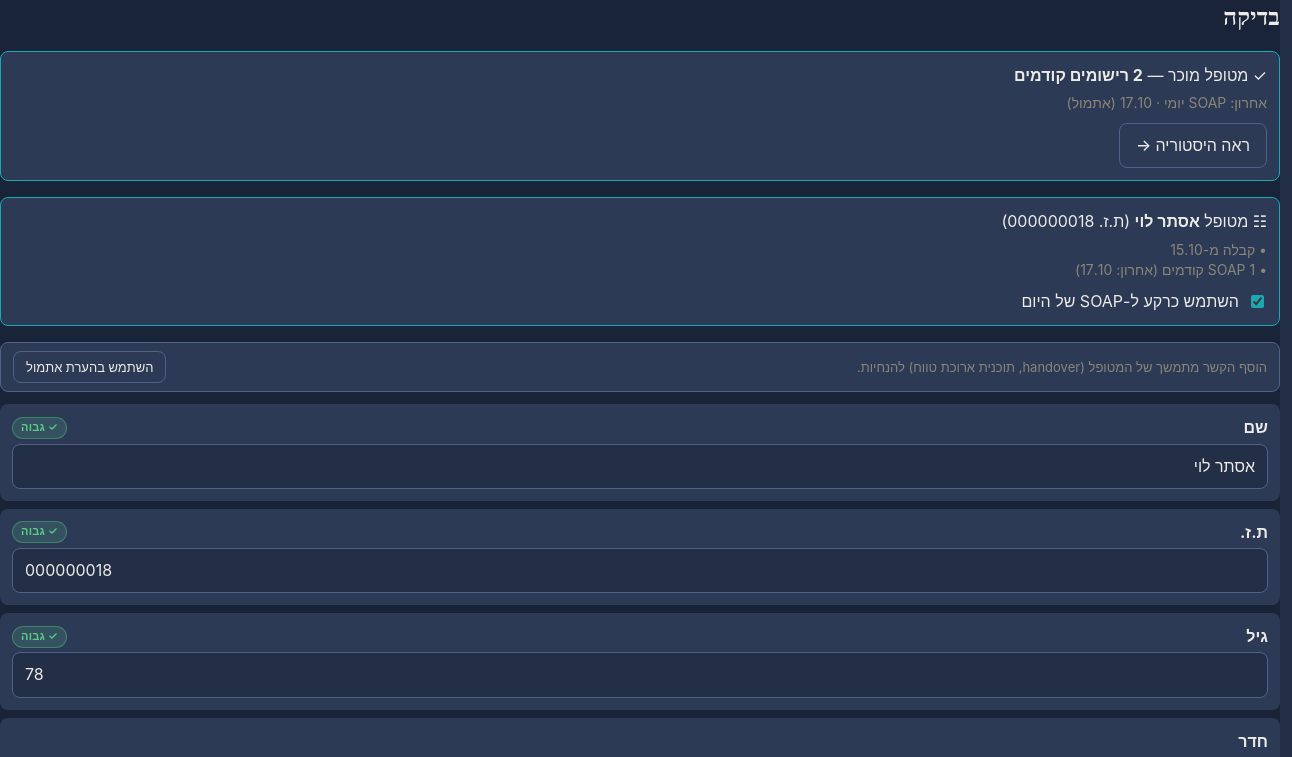
Test: Review — runtime "השתמש בהערת אתמול" toggle (v1.41.0) › toggles its label when clicked
This screenshot has width=1292, height=757.
Expected: the field showing "אסתר לוי" is shown, [12,444,1268,489]
Step 1. Click the button "השתמש בהערת אתמול" → (90, 367), box [13,351,166,383]
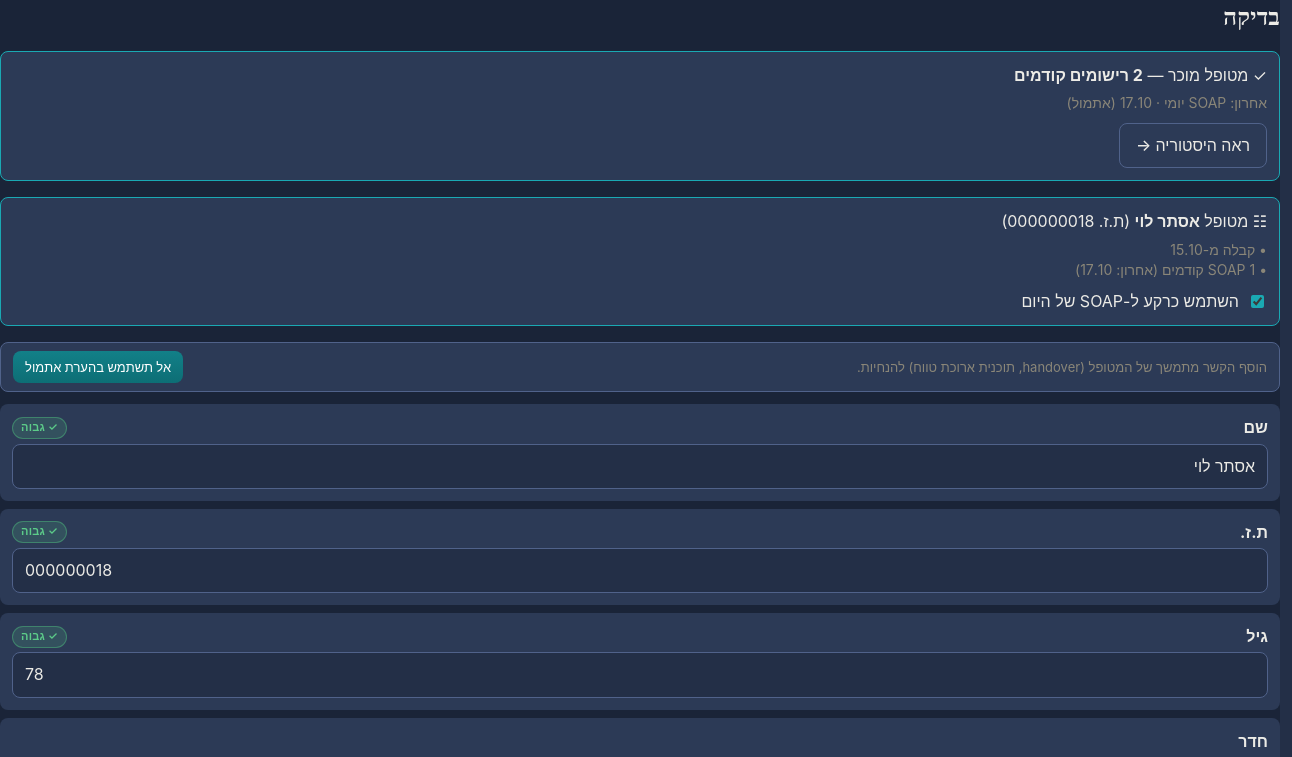
Now the button "אל תשתמש בהערת אתמול" is shown
Step 2. Click the button "אל תשתמש בהערת אתמול" → (98, 367), box [13,351,183,383]
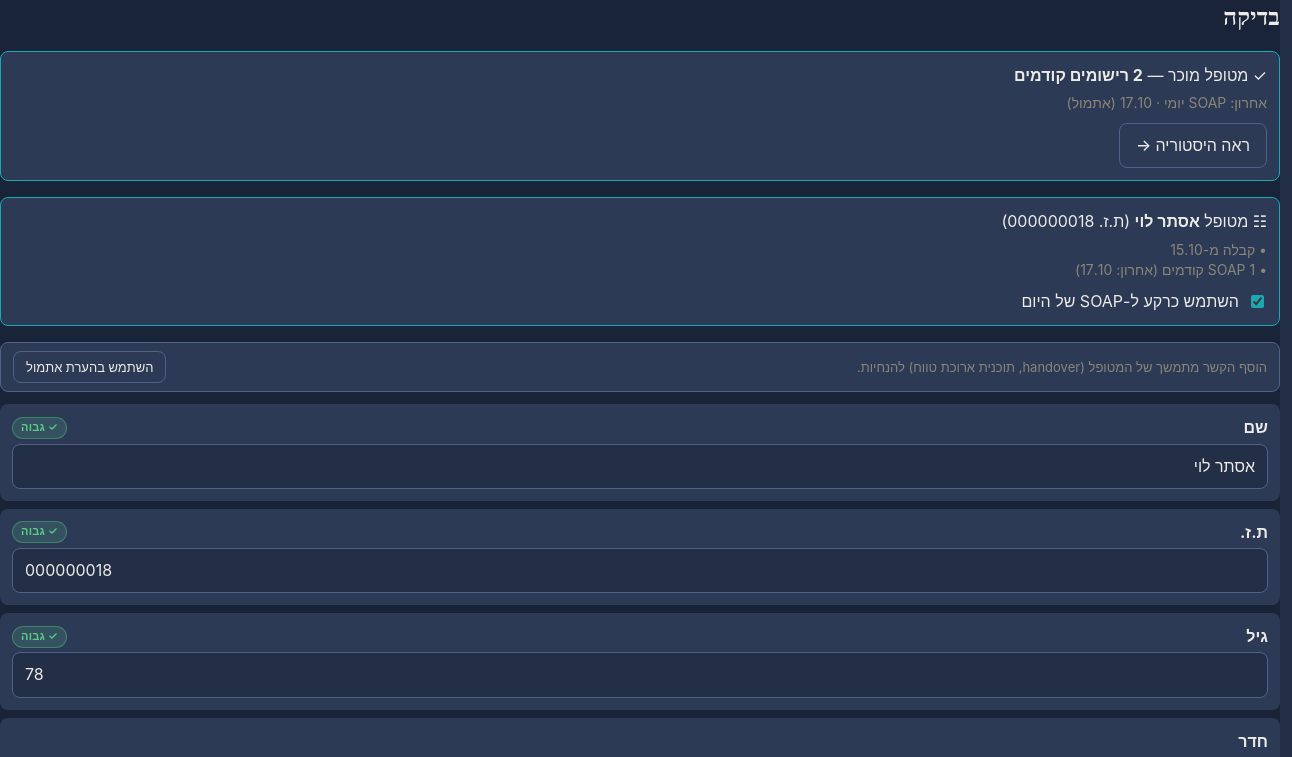
Now the button "השתמש בהערת אתמול" is shown, box [13,351,166,383]
